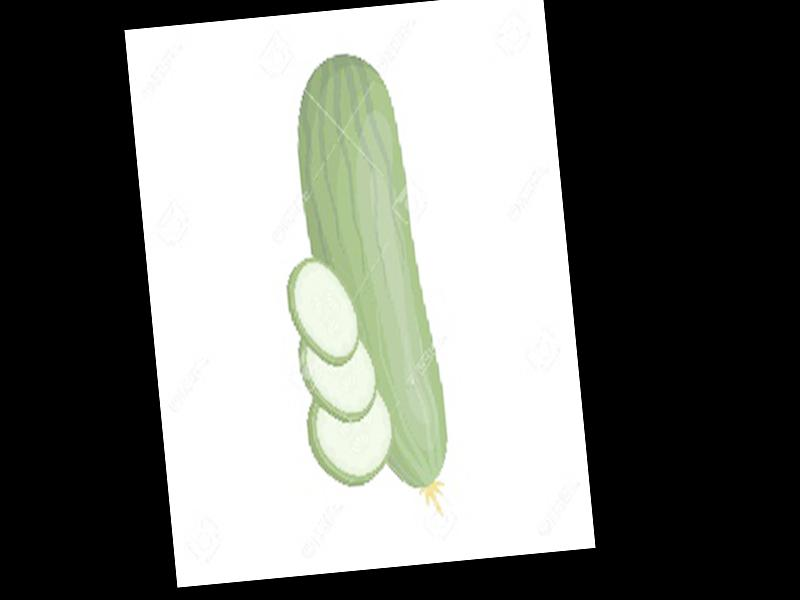Cucumber: (288, 44, 454, 522)
